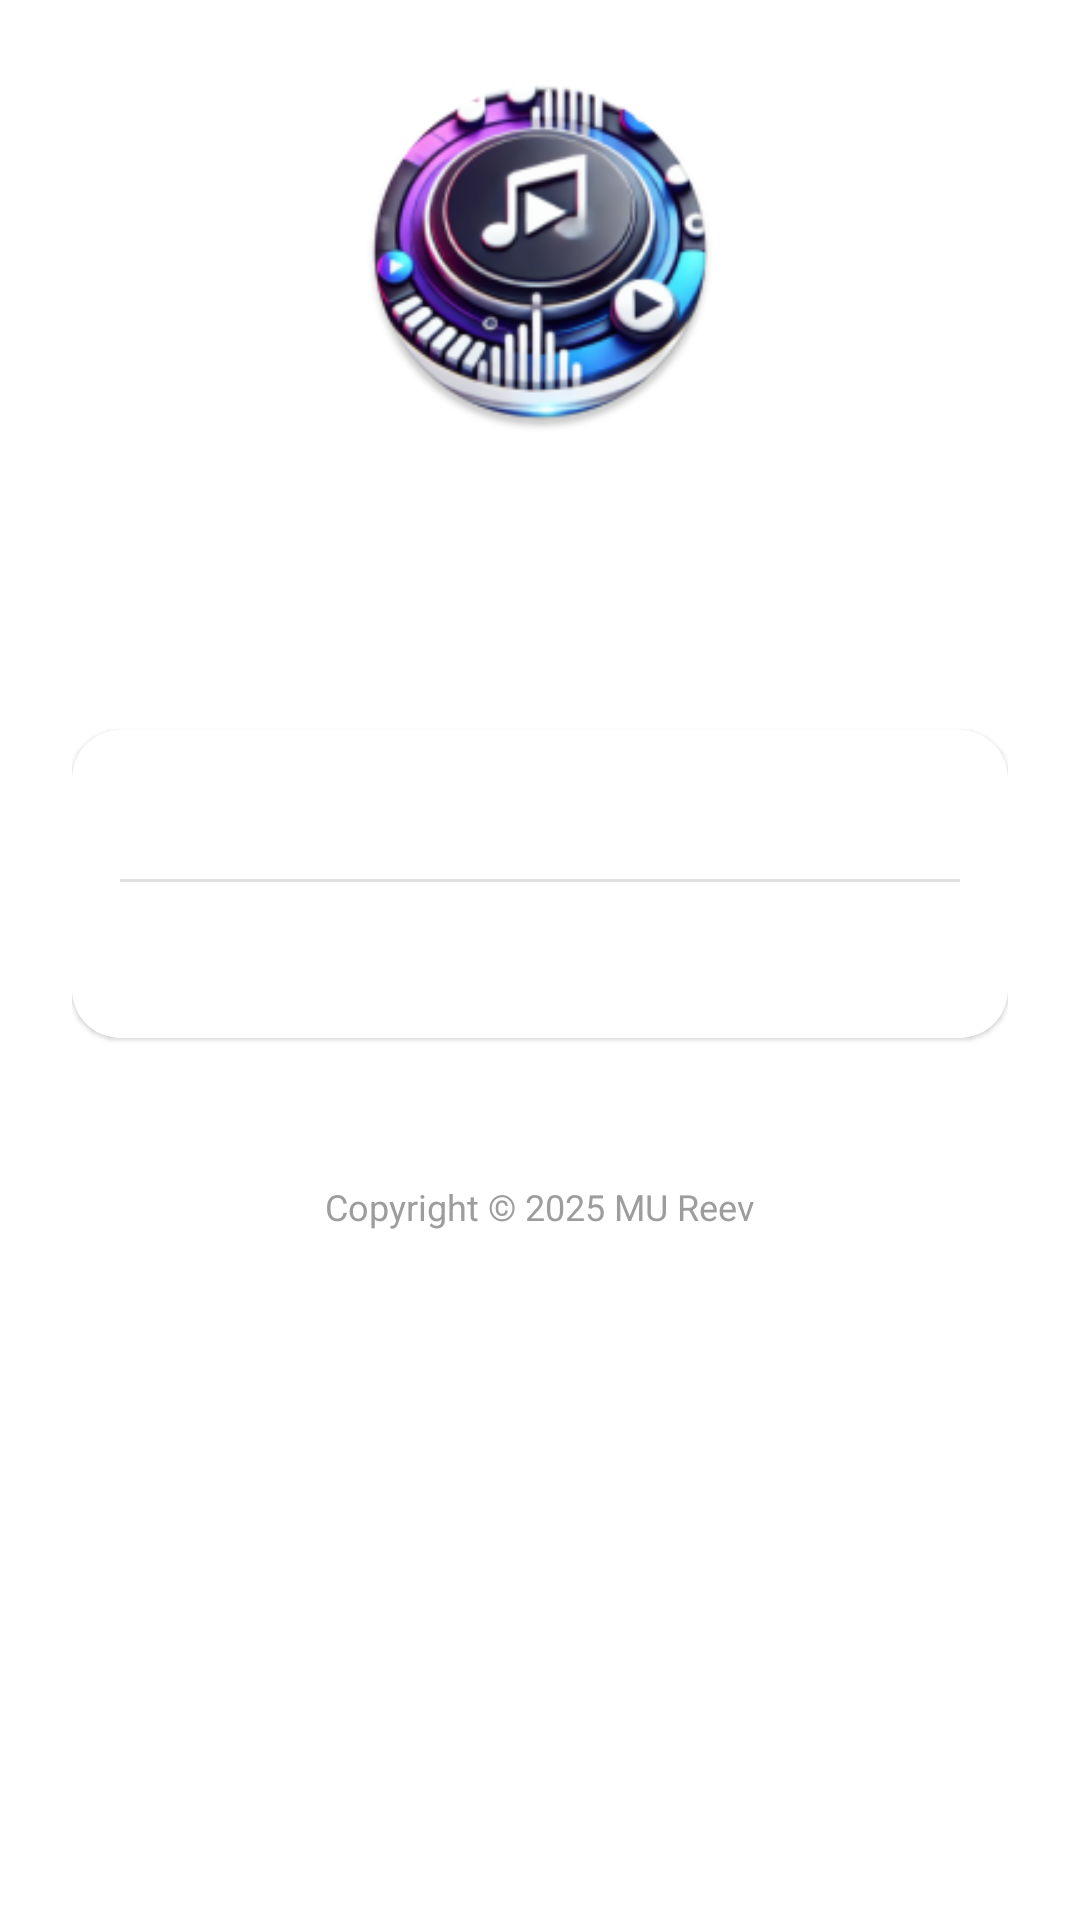

Locate icon controls on the screen. Image size 1080px x 1920px, boxes as [x1,y1,x2,y2].
music player round: [372,86,708,426]
